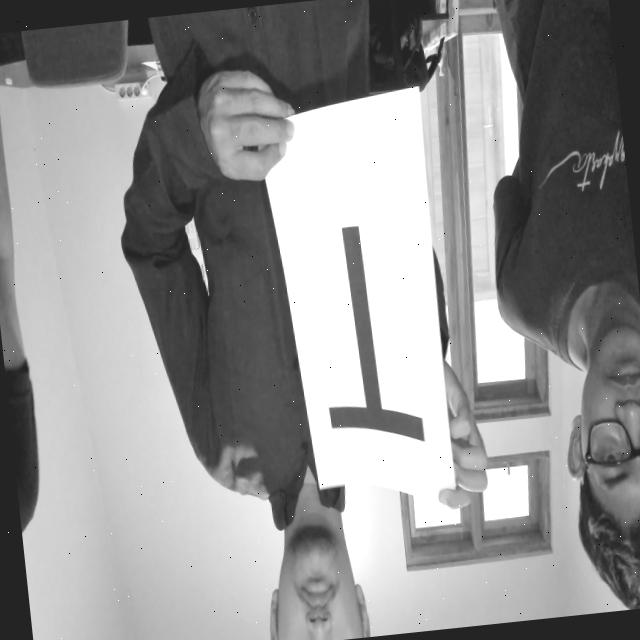t: (292, 196, 432, 465)
